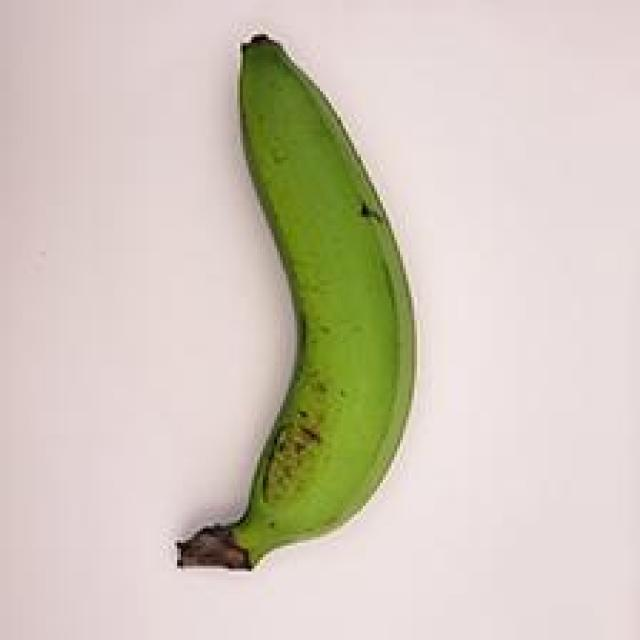Raw: (130, 19, 443, 596)
